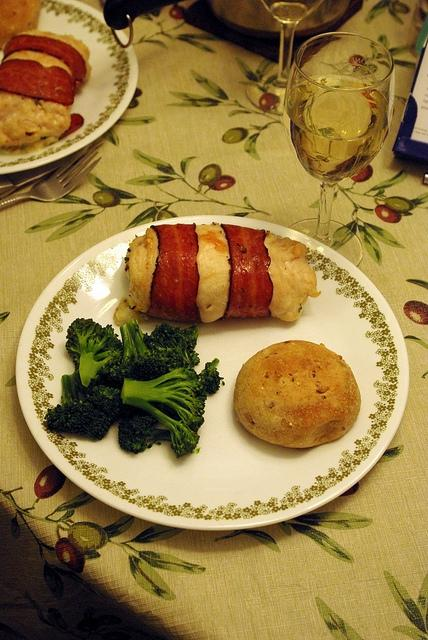broccoli: (120, 358, 224, 458), (44, 374, 111, 441), (66, 318, 124, 387), (110, 318, 168, 384), (142, 321, 200, 368), (118, 414, 172, 454)
